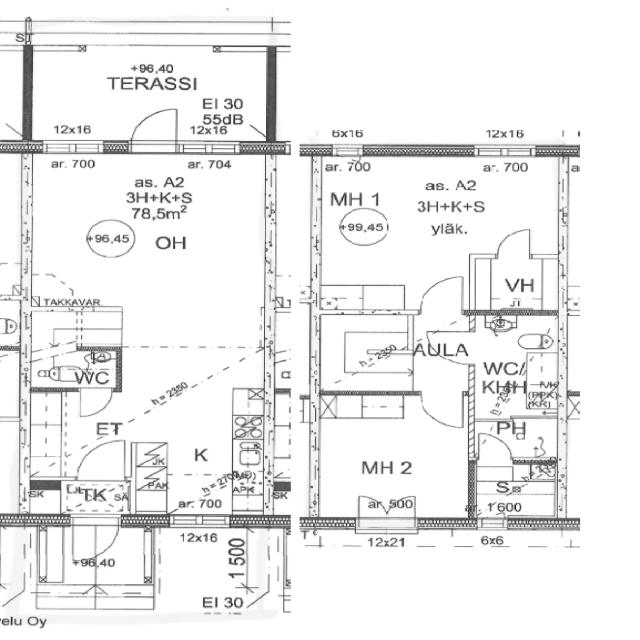door: (72, 436, 130, 483), (126, 104, 180, 153), (70, 513, 122, 563), (414, 271, 468, 317), (415, 390, 467, 430), (490, 224, 538, 260), (472, 432, 514, 467), (74, 386, 116, 420)
window: (163, 509, 239, 532), (32, 140, 113, 156), (175, 140, 244, 156), (471, 144, 540, 159), (325, 145, 366, 159), (477, 516, 507, 529)
zone: (21, 164, 271, 366), (24, 35, 270, 149), (10, 155, 276, 258), (317, 156, 566, 254), (123, 346, 264, 518), (312, 393, 471, 522), (149, 524, 269, 615), (465, 311, 563, 420), (314, 311, 414, 395), (22, 306, 120, 391), (464, 254, 563, 314), (469, 461, 559, 521), (472, 416, 560, 464)
